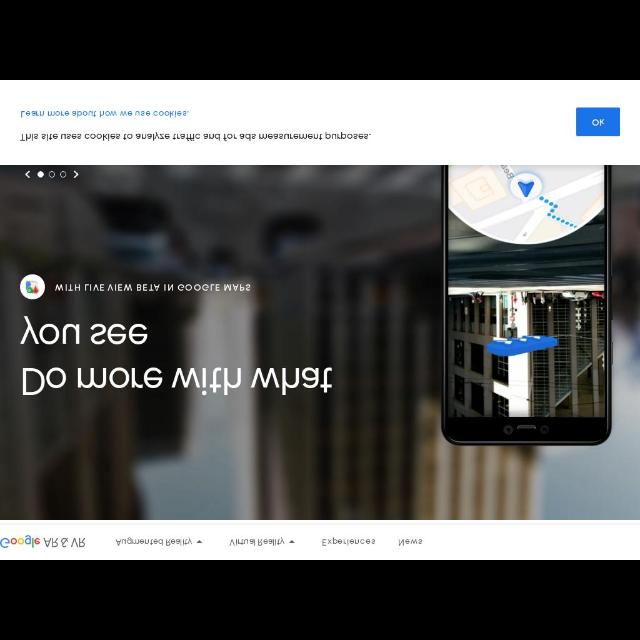backgroundimage: (4, 166, 638, 518)
icon: (196, 538, 204, 544), (288, 538, 296, 544)
iframe: (1, 83, 639, 165)
image: (2, 533, 42, 551), (20, 274, 44, 302), (44, 536, 86, 550)
link: (21, 108, 190, 120)
pageindicator: (24, 168, 80, 180)
spinner: (116, 534, 204, 548), (230, 535, 296, 547)
text: (22, 316, 336, 396), (21, 131, 373, 141), (54, 282, 252, 294), (322, 536, 376, 548), (118, 537, 192, 545), (231, 536, 285, 546), (398, 536, 424, 546), (592, 119, 604, 129)
textbutton: (576, 106, 620, 136)
toolbar: (1, 520, 639, 558)
